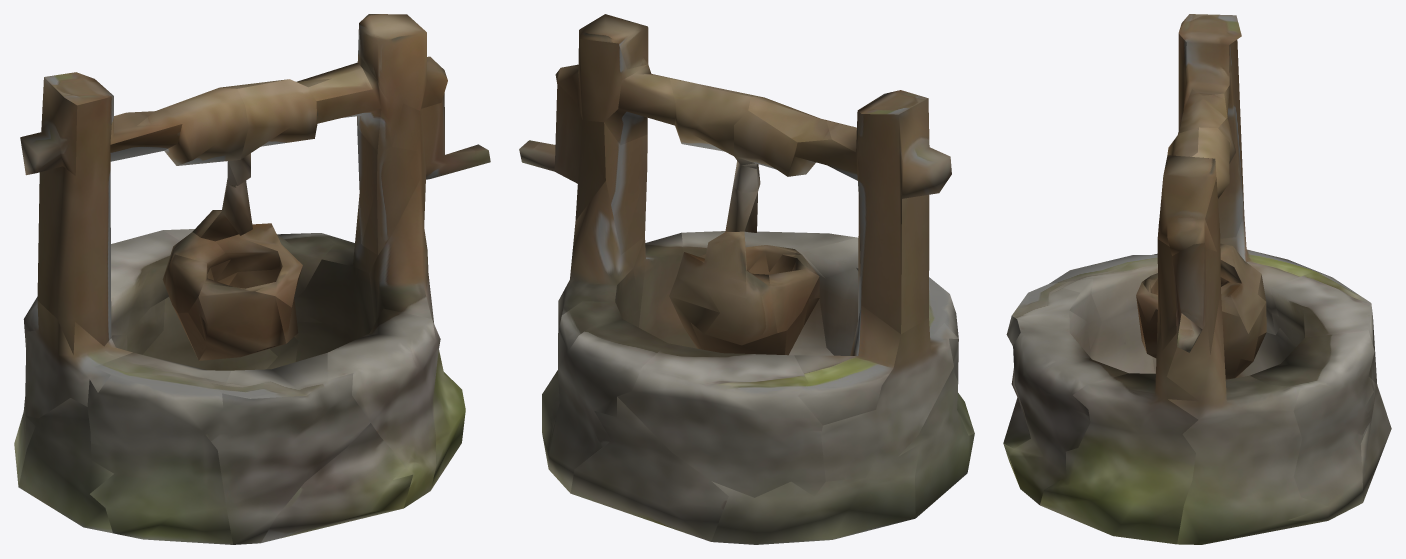
File: Well.glb
The picture shows the model from 3 angles, left to right: view 1: azimuth 30°, elevation 25°; view 2: azimuth 150°, elevation 25°; view 3: azimuth 270°, elevation 25°; orthographic projection. The views are drawn at different scales.
Visible parts, largest first — view 1: Well; view 2: Well; view 3: Well.
Boxes of the visible parts, box(x1,y1,x2,y2) form: Well: box(14, 14, 490, 544); Well: box(519, 14, 974, 544); Well: box(1003, 14, 1391, 544).
Bounding box in the file's own units: 0.9928 × 0.8692 × 0.8244.
1 material, 1 textured.
